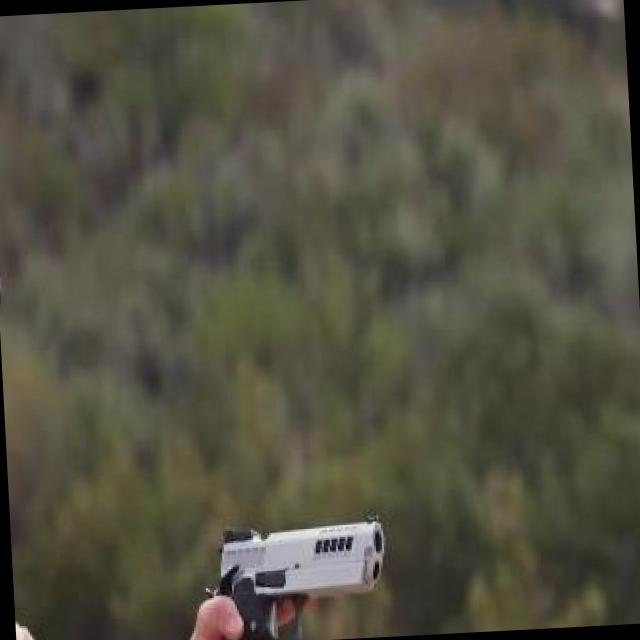Guns: (139, 486, 404, 640)
